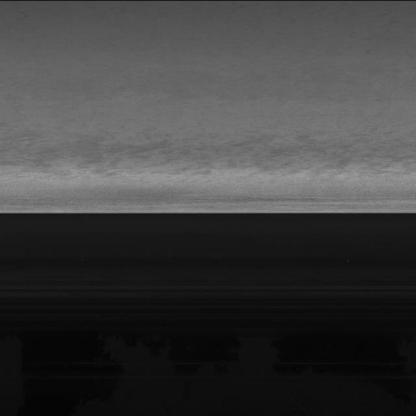silk_spot: (124, 136, 254, 172)
